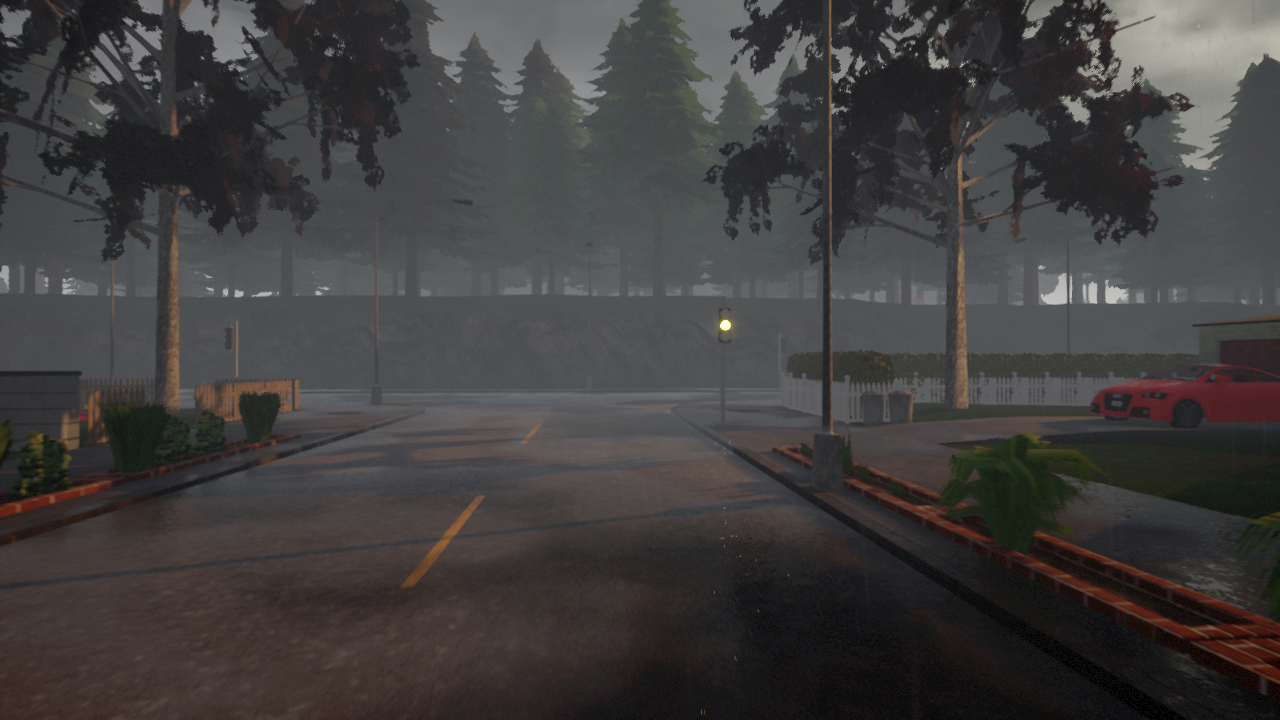yellow: (717, 306, 734, 345)
